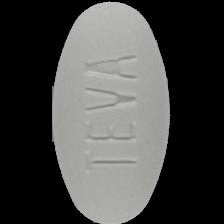54868-5579: (0, 0, 224, 224)
